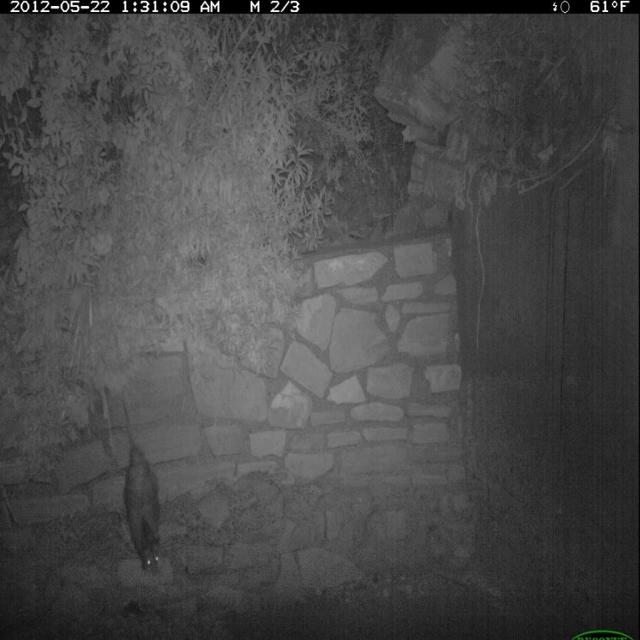opossum: (104, 405, 191, 591)
